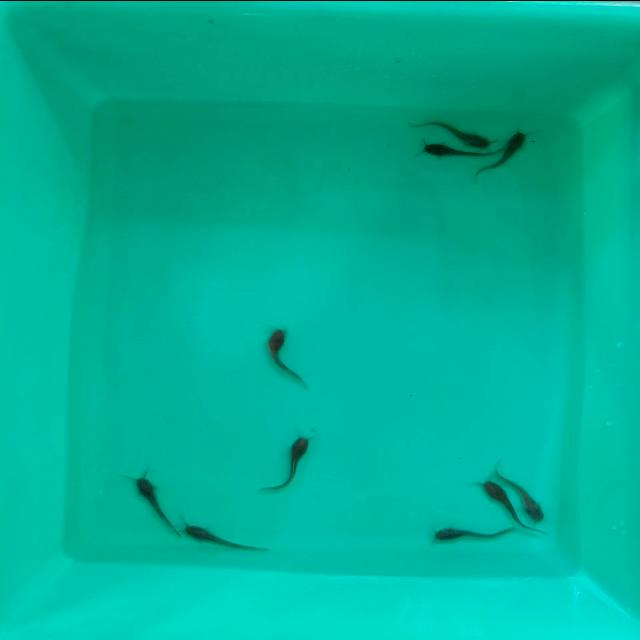lele: (476, 476, 544, 542), (490, 465, 560, 526), (130, 476, 178, 532), (262, 328, 306, 380), (428, 524, 516, 546), (186, 525, 270, 548), (412, 122, 492, 144), (416, 142, 488, 164), (282, 432, 308, 491), (498, 130, 528, 174)
